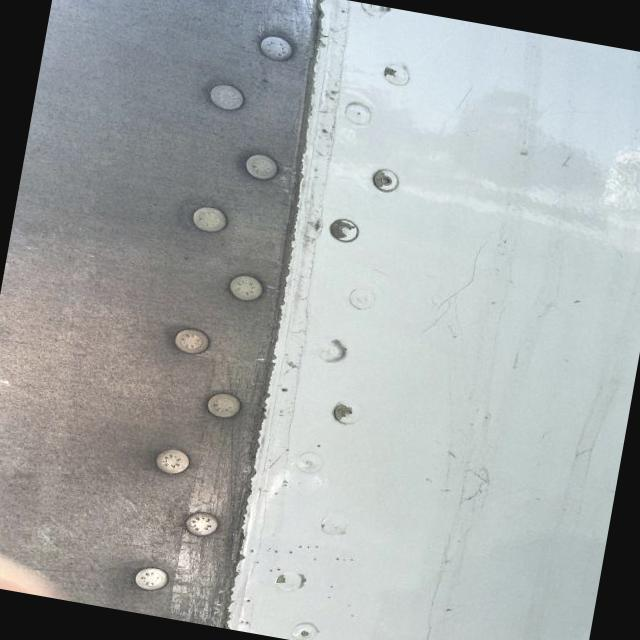crack: (412, 245, 508, 350), (446, 457, 496, 504)
